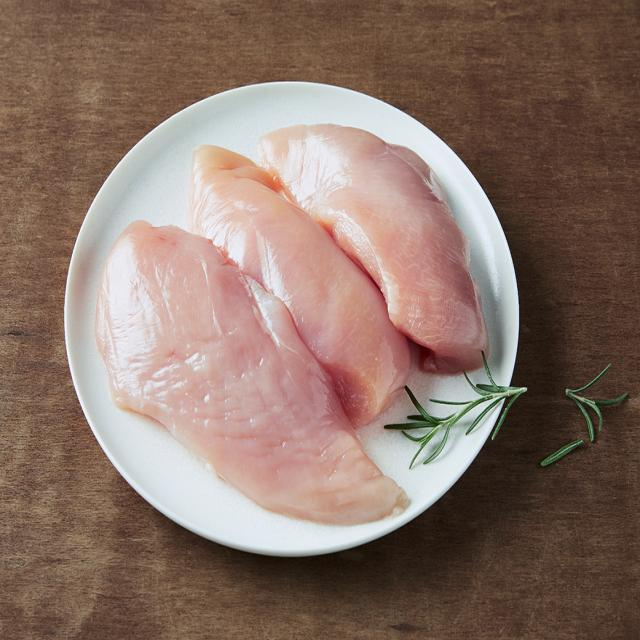chicken: (98, 222, 408, 534), (188, 146, 408, 422), (257, 119, 496, 367)
